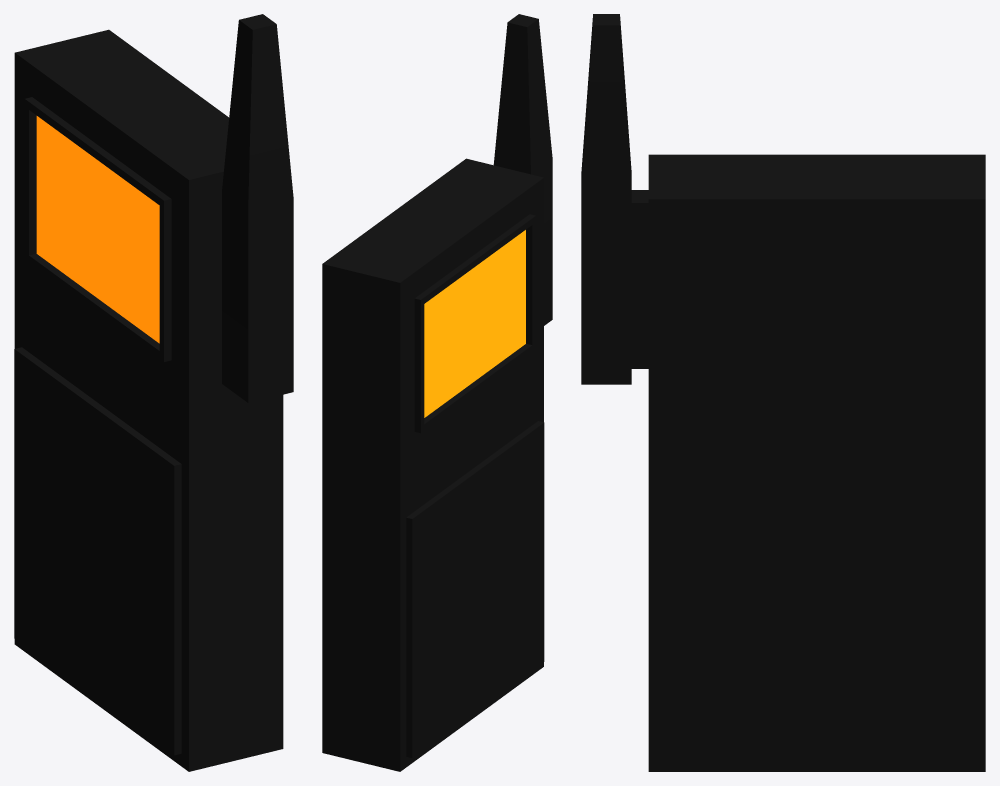
The picture shows the model from 3 angles, left to right: view 1: azimuth 30°, elevation 25°; view 2: azimuth 150°, elevation 25°; view 3: azimuth 270°, elevation 25°; orthographic projection. The views are drawn at different scales.
Parts seen in each view (by area): view 1: Box005, Screen; view 2: Box005, Screen; view 3: Box005.
Boxes of the visible parts, x1,y1,x2,y2 form: Box005: [14, 14, 293, 771]; Screen: [36, 116, 159, 343]; Box005: [322, 14, 552, 771]; Screen: [424, 230, 525, 417]; Box005: [581, 14, 985, 771].
Size of the model in its own units: 2.7 by 19.12 by 9.6.
